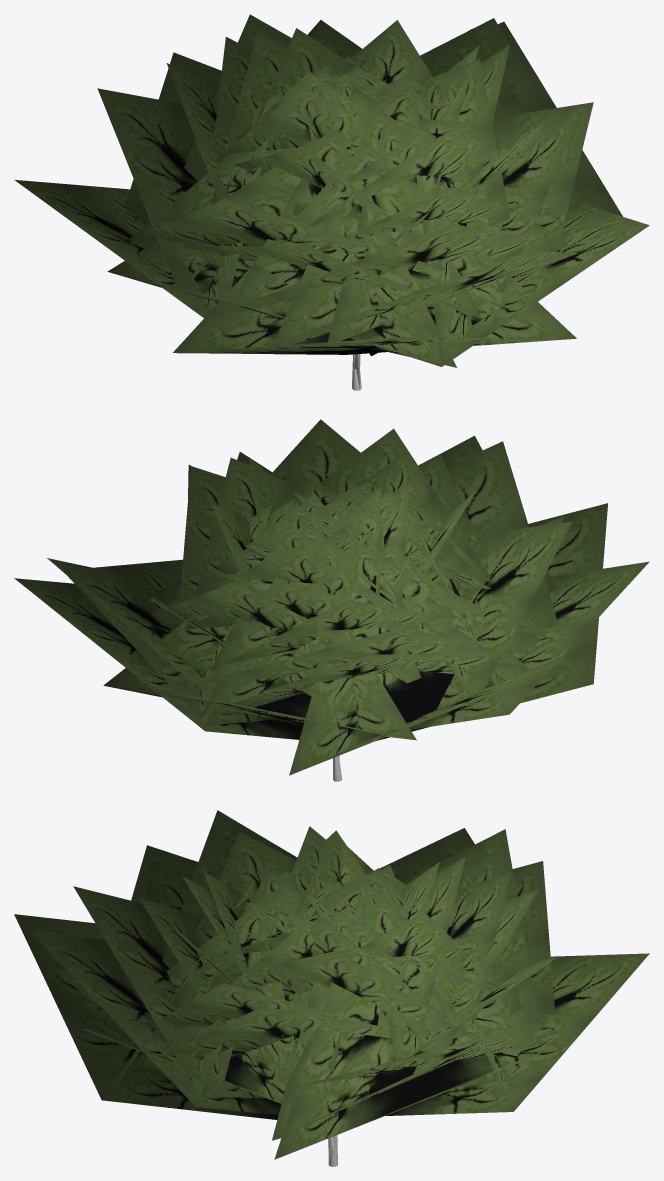
The model's file is Bush_01.fbx.
3 renders of one model, top to bottom at view 1: azimuth 30°, elevation 25°; view 2: azimuth 150°, elevation 25°; view 3: azimuth 270°, elevation 25°, orthographic. The views are drawn at different scales.
Parts seen in each view (by area): view 1: tree; view 2: tree; view 3: tree.
Boxes of the visible parts, box(x1,y1,x2,y2) form: tree: box(15, 14, 649, 390); tree: box(14, 419, 649, 781); tree: box(14, 810, 649, 1166).
Size of the model in its own units: 183 by 110 by 204.
